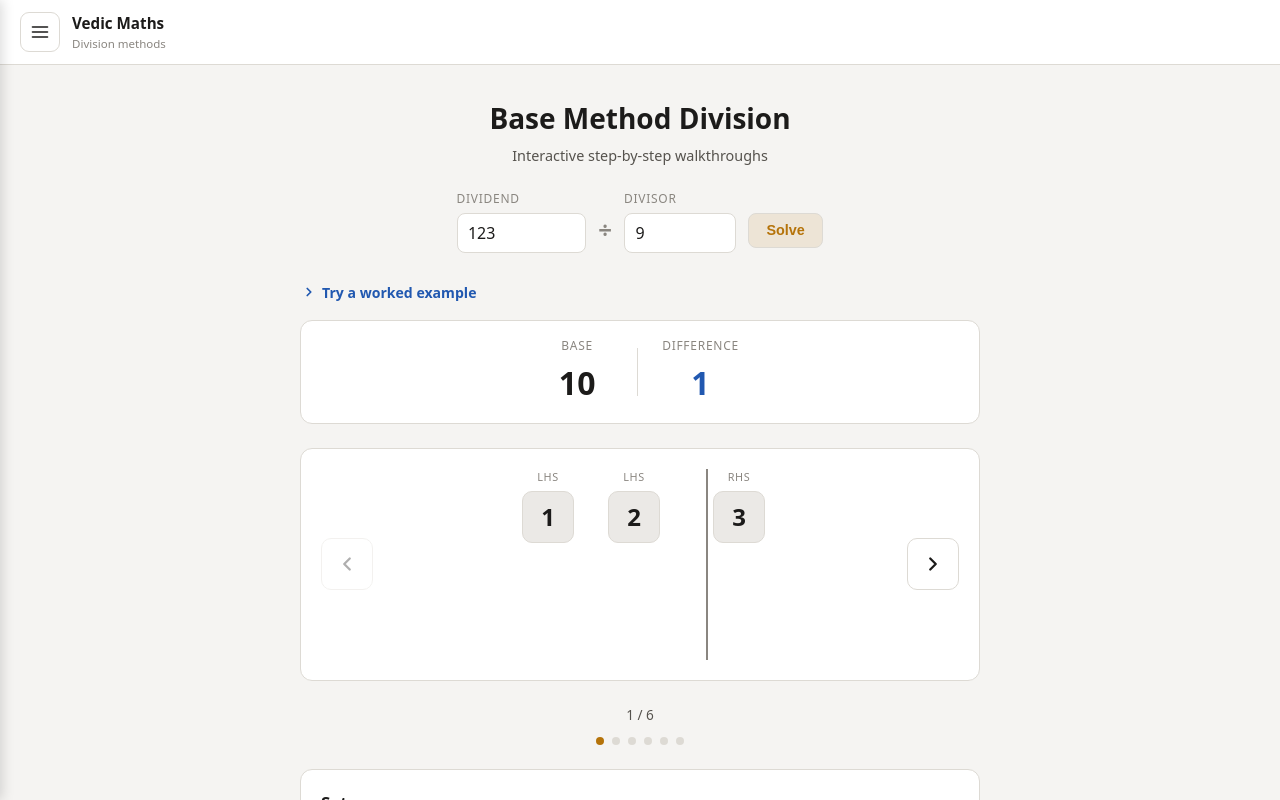
Test: App › sidebar navigation › opens via the menu button and closes via a scrim click
Click the button named "Open method menu" at (40,32), box [20,12,60,52]
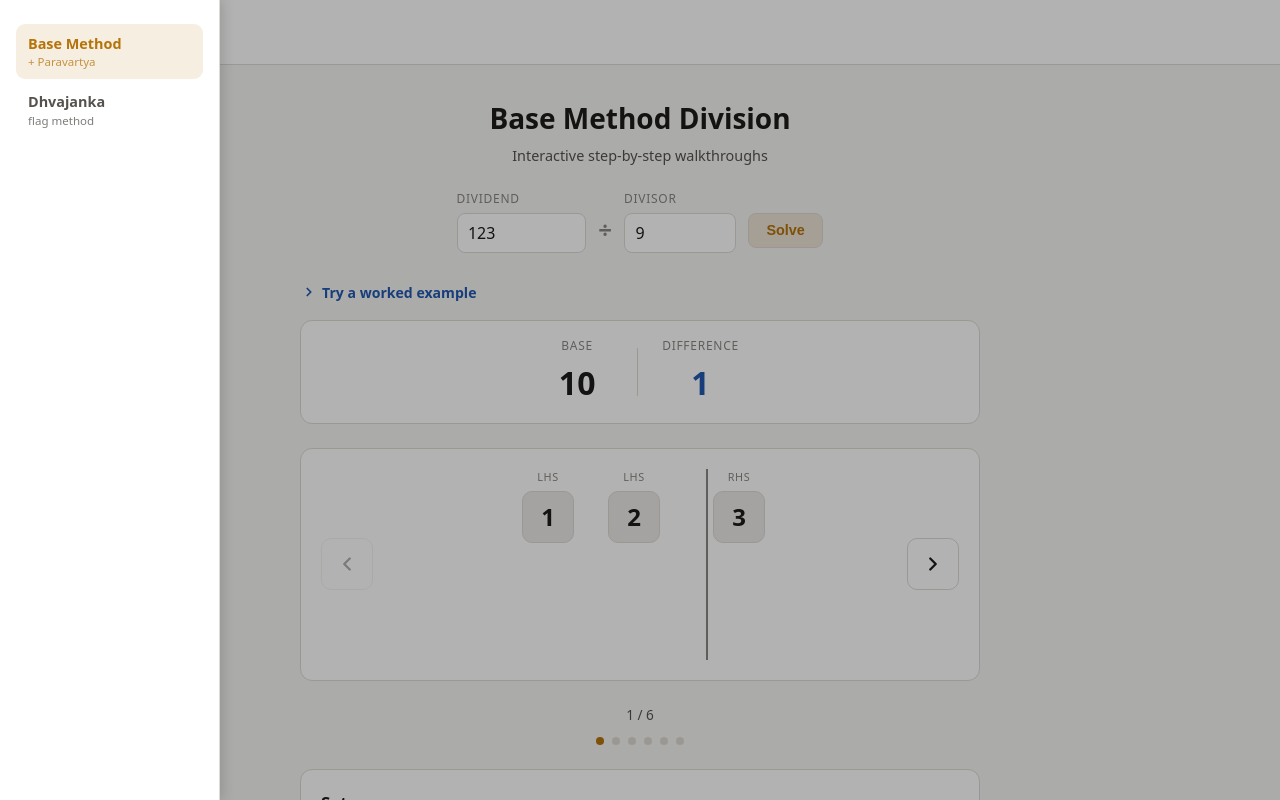
Expected: the button named "Open method menu" is expanded, [20,12,60,52]
Click the element with class "sidebar-scrim" at (640,400), box [0,0,1279,799]
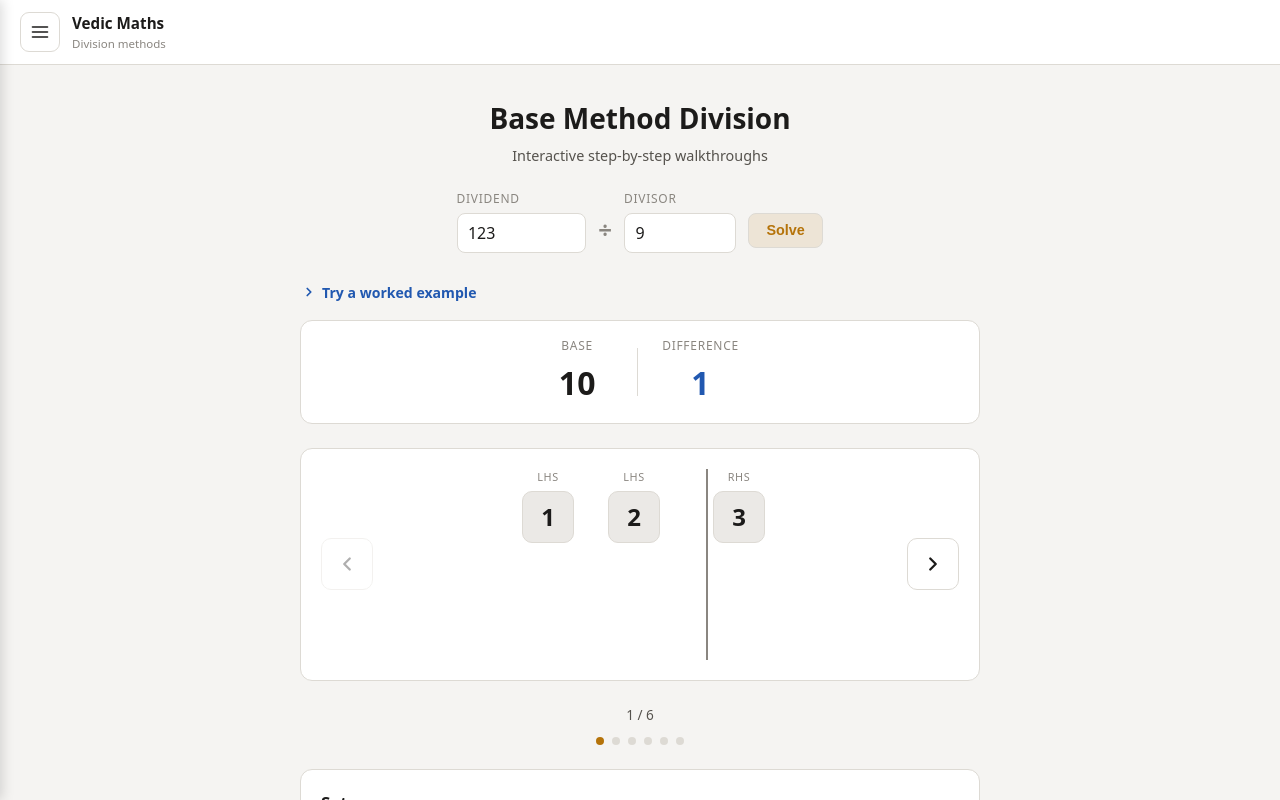
Expected: the button named "Open method menu" is collapsed, [20,12,60,52]
